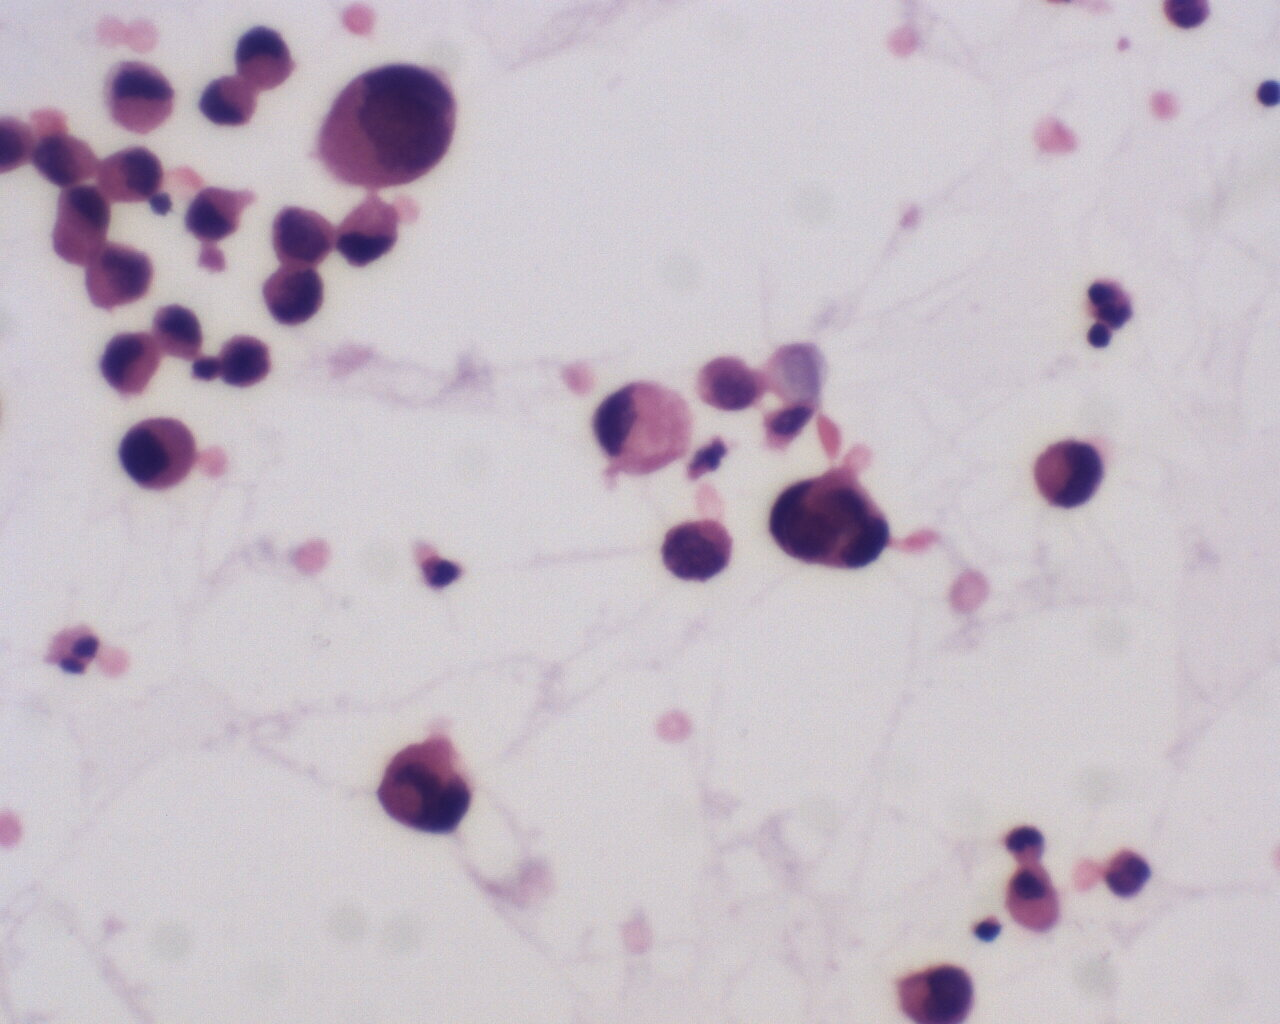ab: (317, 62, 463, 193), (371, 734, 475, 841), (893, 954, 984, 1024), (328, 192, 402, 273), (100, 55, 179, 131), (657, 515, 740, 586), (80, 241, 155, 316), (1031, 439, 1107, 511), (255, 260, 330, 326), (32, 125, 104, 186), (269, 204, 335, 269), (217, 330, 276, 392)
histo: (587, 370, 694, 478)
meso: (115, 412, 203, 494), (229, 25, 296, 92)
